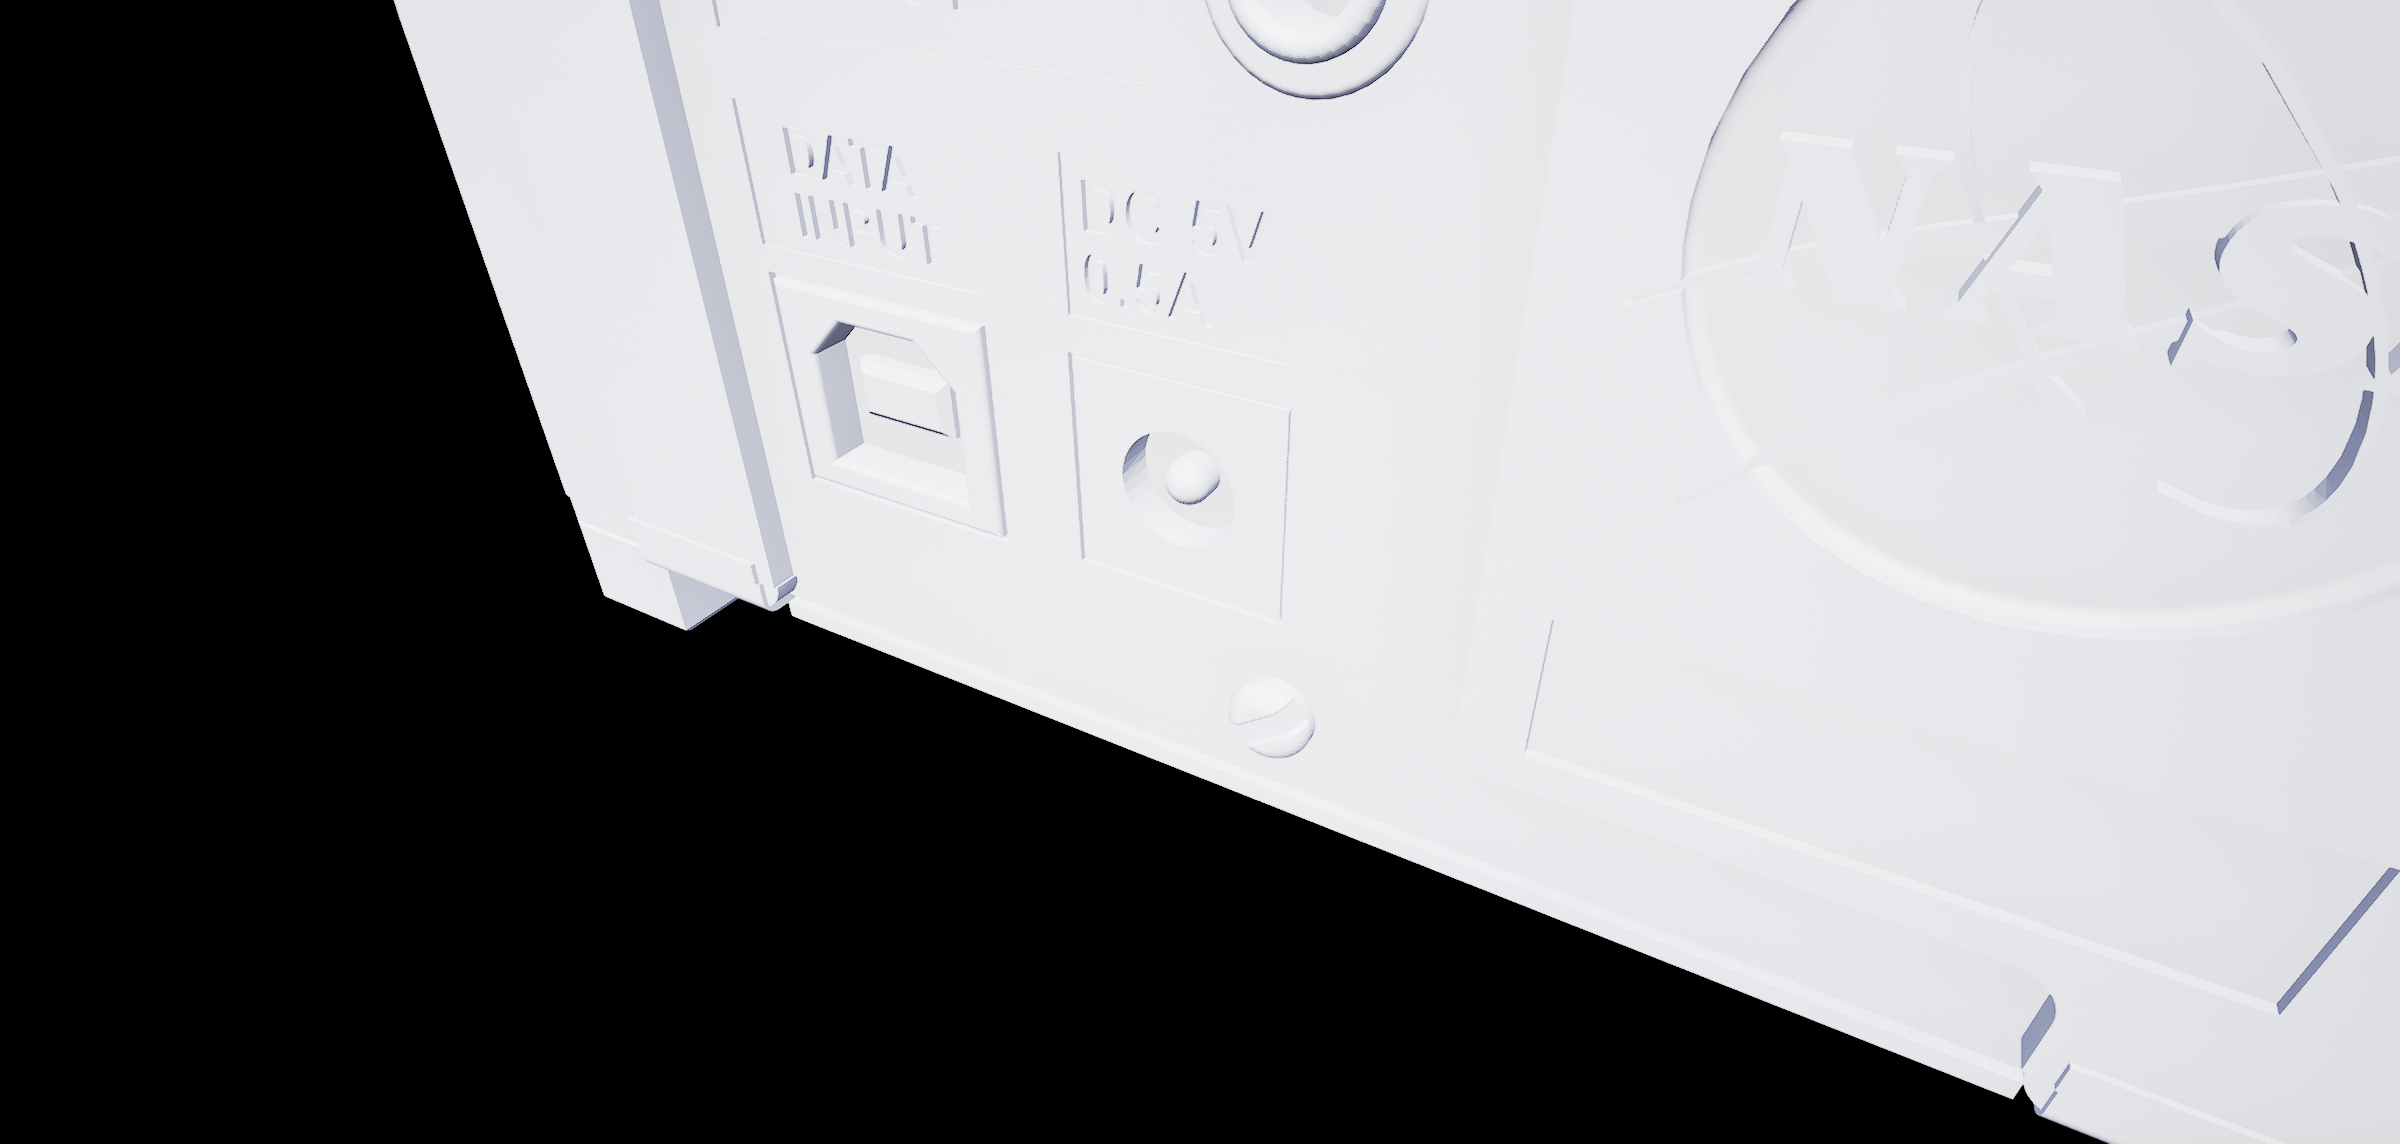aux: (1172, 2, 1459, 80)
dc: (1117, 420, 1254, 557)
usb: (804, 311, 980, 513)
